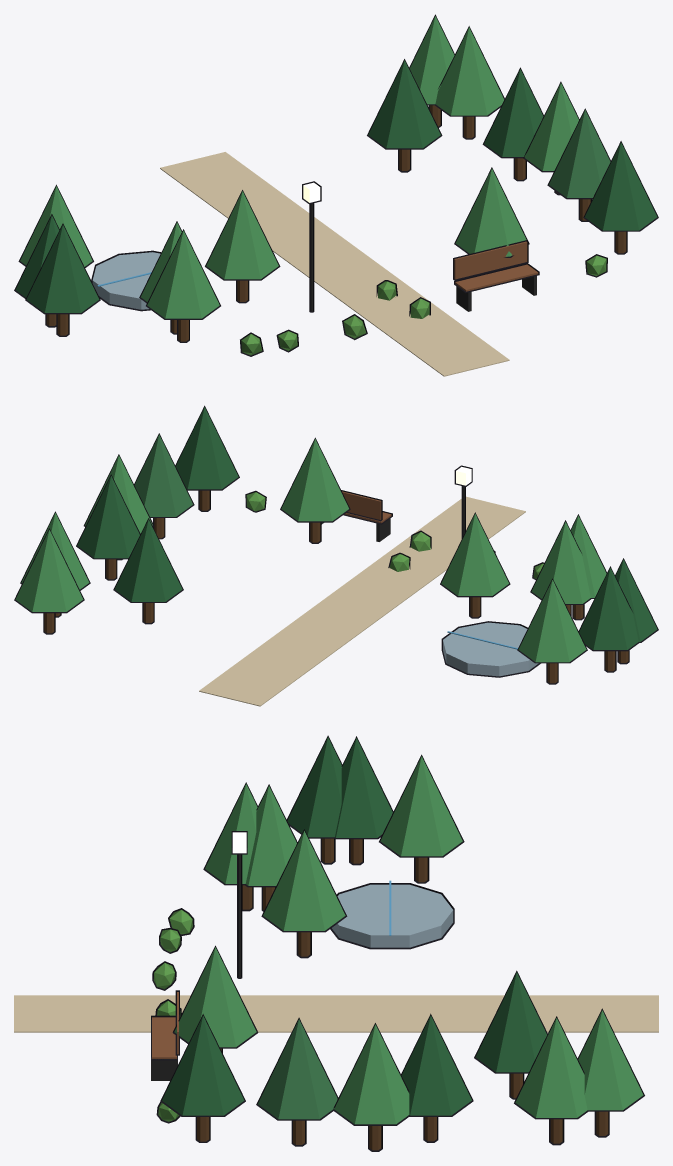
The model's file is cut-park.glb.
3 views of the same model, one above another, from view 1: azimuth 30°, elevation 25°; view 2: azimuth 150°, elevation 25°; view 3: azimuth 270°, elevation 25° (orthographic). The views are drawn at different scales.
Parts seen in each view (by area): view 1: Cube.092, Cone.015, Cone.005, Cone.004, Cone.012, Cone.007, Cone.014, Cone.011, Cone.006, Cone.010, Cylinder.018, Cone.003 (+7 smaller); view 2: Cube.092, Cylinder.018, Cone.013, Cone.005, Cone.009, Cone.011, Cone.004, Cone.010, Cone.012, Cone.008, Cone.006, Cone.016 (+5 smaller); view 3: Cube.092, Cylinder.018, Cone.005, Cone.009, Cone.012, Cone.006, Cone.003, Cone.014, Cone.010, Cone.004, Cone.011, Cone.013 (+6 smaller).
Part boxes in pixels (<box>): Cube.092: <box>160,152,509,376</box>; Cone.015: <box>25,223,100,314</box>; Cone.005: <box>205,190,280,280</box>; Cone.004: <box>367,59,442,149</box>; Cone.012: <box>583,141,658,231</box>; Cone.007: <box>146,229,220,319</box>; Cone.014: <box>435,26,504,116</box>; Cone.011: <box>454,167,529,257</box>; Cone.006: <box>547,108,610,199</box>; Cone.010: <box>482,67,543,158</box>; Cylinder.018: <box>91,250,161,311</box>; Cone.003: <box>523,81,579,172</box>; Cube.092: <box>199,496,525,706</box>; Cylinder.018: <box>441,621,540,677</box>; Cone.013: <box>14,528,84,613</box>; Cone.005: <box>440,512,510,597</box>; Cone.009: <box>517,578,587,663</box>; Cone.011: <box>280,437,350,522</box>; Cone.004: <box>113,518,183,602</box>; Cone.010: <box>76,474,140,559</box>; Cone.012: <box>175,405,239,490</box>; Cone.008: <box>578,566,638,651</box>; Cone.006: <box>134,433,194,517</box>; Cone.016: <box>530,520,592,604</box>; Cube.092: <box>14,995,658,1032</box>; Cylinder.018: <box>330,883,454,949</box>; Cone.005: <box>261,829,347,932</box>; Cone.009: <box>379,754,464,857</box>; Cone.012: <box>160,1014,245,1116</box>; Cone.006: <box>256,1017,338,1120</box>; Cone.003: <box>333,1023,409,1125</box>; Cone.014: <box>514,1016,589,1119</box>; Cone.010: <box>401,1013,473,1116</box>; Cone.004: <box>474,970,547,1073</box>; Cone.011: <box>172,945,258,1048</box>; Cone.013: <box>577,1008,644,1111</box>.
Size of what is drawn, in the model's own units: 14.03 by 3.1 by 12.
